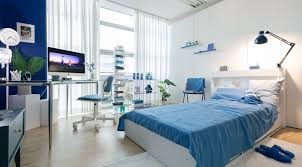Bed: (123, 69, 291, 167)
Chair: (71, 73, 120, 134)
curtain: (47, 0, 104, 56), (134, 9, 174, 78)
